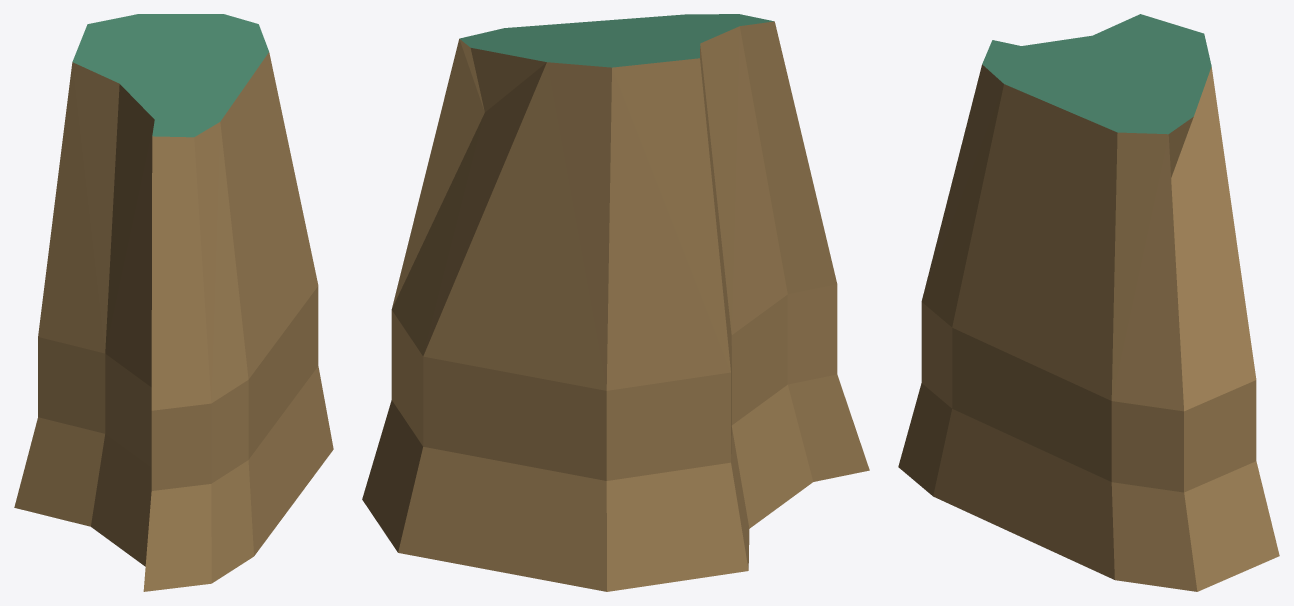
Rendered from Rock_Large_Mesa_Eroded_Moss_Grass_04.FBX.
The picture shows the model from 3 angles, left to right: view 1: azimuth 30°, elevation 25°; view 2: azimuth 150°, elevation 25°; view 3: azimuth 270°, elevation 25°; orthographic projection. The views are drawn at different scales.
Visible parts, largest first — view 1: Rock_Large_Mesa_Eroded_Moss_Grass_04; view 2: Rock_Large_Mesa_Eroded_Moss_Grass_04; view 3: Rock_Large_Mesa_Eroded_Moss_Grass_04.
Boxes of the visible parts, x1,y1,x2,y2 form: Rock_Large_Mesa_Eroded_Moss_Grass_04: (14,14,333,591); Rock_Large_Mesa_Eroded_Moss_Grass_04: (362,14,869,591); Rock_Large_Mesa_Eroded_Moss_Grass_04: (898,14,1279,591).
Bounding box in the file's own units: 4716 × 6162 × 4767.
